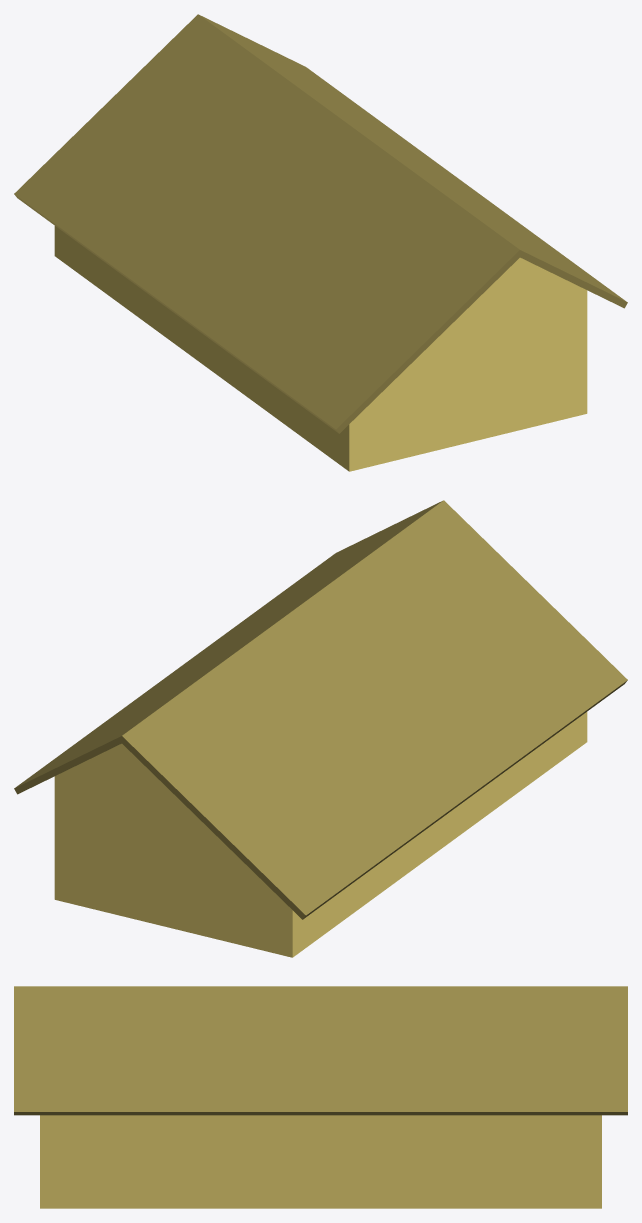
The model's file is result.glb.
3 renders of one model, top to bottom at view 1: azimuth 30°, elevation 25°; view 2: azimuth 150°, elevation 25°; view 3: azimuth 270°, elevation 25°, orthographic. The views are drawn at different scales.
Parts seen in each view (by area): view 1: 9e52dd38-d2ce-4bce-bd09-4d9adb12e01a__undefined (×2), dd3f9677-dd5e-4af4-9e70-edd62c2d68ac__undefined; view 2: 9e52dd38-d2ce-4bce-bd09-4d9adb12e01a__undefined (×2), dd3f9677-dd5e-4af4-9e70-edd62c2d68ac__undefined; view 3: 9e52dd38-d2ce-4bce-bd09-4d9adb12e01a__undefined, dd3f9677-dd5e-4af4-9e70-edd62c2d68ac__undefined.
Part boxes in pixels (<box>): 9e52dd38-d2ce-4bce-bd09-4d9adb12e01a__undefined (×2): <box>14,14,627,433</box>; dd3f9677-dd5e-4af4-9e70-edd62c2d68ac__undefined: <box>54,226,587,471</box>; 9e52dd38-d2ce-4bce-bd09-4d9adb12e01a__undefined (×2): <box>14,500,627,919</box>; dd3f9677-dd5e-4af4-9e70-edd62c2d68ac__undefined: <box>54,712,587,957</box>; 9e52dd38-d2ce-4bce-bd09-4d9adb12e01a__undefined: <box>14,986,627,1115</box>; dd3f9677-dd5e-4af4-9e70-edd62c2d68ac__undefined: <box>40,1115,601,1208</box>.
Size of the model in its own units: 1225 by 776 by 2339.
